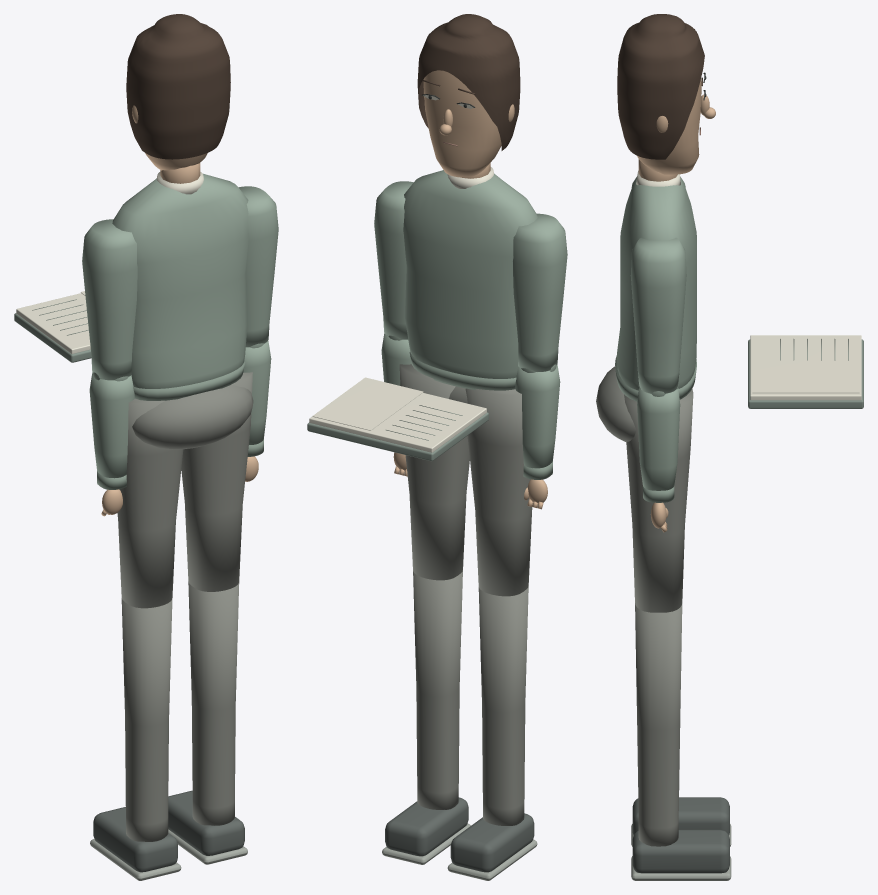
Rendered from ambient_bench_reader.glb.
3 renders of one model, left to right at view 1: azimuth 30°, elevation 25°; view 2: azimuth 150°, elevation 25°; view 3: azimuth 270°, elevation 25°, orthographic.
Parts seen in each view (by area): view 1: QuietClothTorso, Brow, Knee, Knee.001, TrouserThigh, TrouserThigh.001, Sleeve, SeatedTrouserPelvis, Sleeve.001, ElbowTransition, OrdinaryShoe, BookPages (+8 smaller); view 2: QuietClothTorso, TrouserThigh, Knee, Knee.001, TrouserThigh.001, Brow, Sleeve, AdultFace, BookPages, Sleeve.001, ElbowTransition, OrdinaryShoe (+8 smaller); view 3: Knee.001, Brow, QuietClothTorso, TrouserThigh.001, Sleeve.001, BookPages, ElbowTransition.001, OrdinaryShoe.001, TurningPage, AdultFace, OrdinaryShoe, SeatedTrouserPelvis (+3 smaller).
Boxes of the visible parts, box(x1,y1,x2,y2) form: QuietClothTorso: box(112, 173, 248, 400); Brow: box(126, 14, 230, 159); Knee: box(121, 598, 172, 841); Knee.001: box(188, 581, 239, 825); TrouserThigh: box(117, 398, 183, 608); TrouserThigh.001: box(181, 372, 252, 591); Sleeve: box(82, 219, 137, 380); SeatedTrouserPelvis: box(132, 385, 253, 449); Sleeve.001: box(238, 186, 278, 347); ElbowTransition: box(89, 372, 134, 478); OrdinaryShoe: box(93, 807, 177, 872); BookPages: box(16, 293, 90, 353); QuietClothTorso: box(403, 170, 537, 390); TrouserThigh: box(465, 388, 532, 596); Knee: box(478, 586, 528, 825); Knee.001: box(413, 570, 462, 809); TrouserThigh.001: box(399, 364, 469, 580); Brow: box(417, 14, 520, 150); Sleeve: box(513, 213, 567, 371); AdultFace: box(423, 70, 514, 177); BookPages: box(309, 393, 486, 452); Sleeve.001: box(374, 181, 413, 339); ElbowTransition: box(515, 364, 560, 468); OrdinaryShoe: box(450, 813, 534, 872); Knee.001: box(635, 603, 682, 846); Brow: box(617, 14, 704, 159); QuietClothTorso: box(616, 177, 696, 401); TrouserThigh.001: box(624, 389, 693, 612); Sleeve.001: box(630, 237, 686, 393); BookPages: box(750, 335, 861, 400); ElbowTransition.001: box(637, 384, 680, 490); OrdinaryShoe.001: box(632, 829, 729, 873); TurningPage: box(752, 363, 859, 393); AdultFace: box(637, 78, 715, 174); OrdinaryShoe: box(632, 797, 729, 834); SeatedTrouserPelvis: box(596, 366, 636, 442).
Size of the model in its own units: 0.408 by 1.76 by 0.509.
